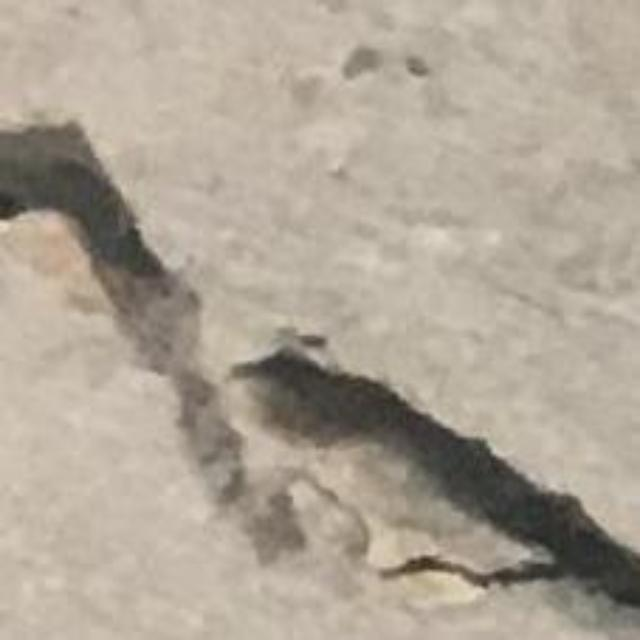crack: (0, 125, 639, 617)
